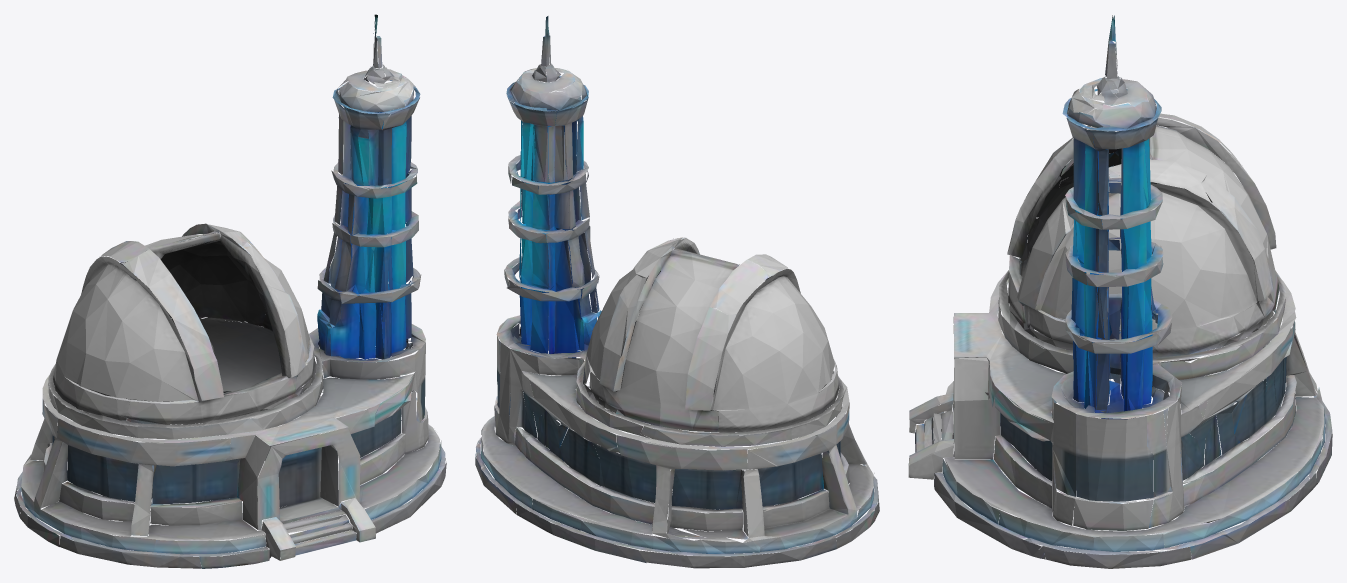
The model's file is analytics.glb.
3 views of the same model, side by side, from view 1: azimuth 30°, elevation 25°; view 2: azimuth 150°, elevation 25°; view 3: azimuth 270°, elevation 25° (orthographic). The views are drawn at different scales.
Visible parts, largest first — view 1: geometry_0; view 2: geometry_0; view 3: geometry_0.
Boxes of the visible parts, x1=… form: geometry_0: x1=14, y1=14, x2=446, y2=568; geometry_0: x1=475, y1=16, x2=879, y2=568; geometry_0: x1=908, y1=15, x2=1332, y2=568.
Bounding box in the file's own units: 0.9073 × 1 × 0.7352.
Materials: 1 (1 with a texture image).
